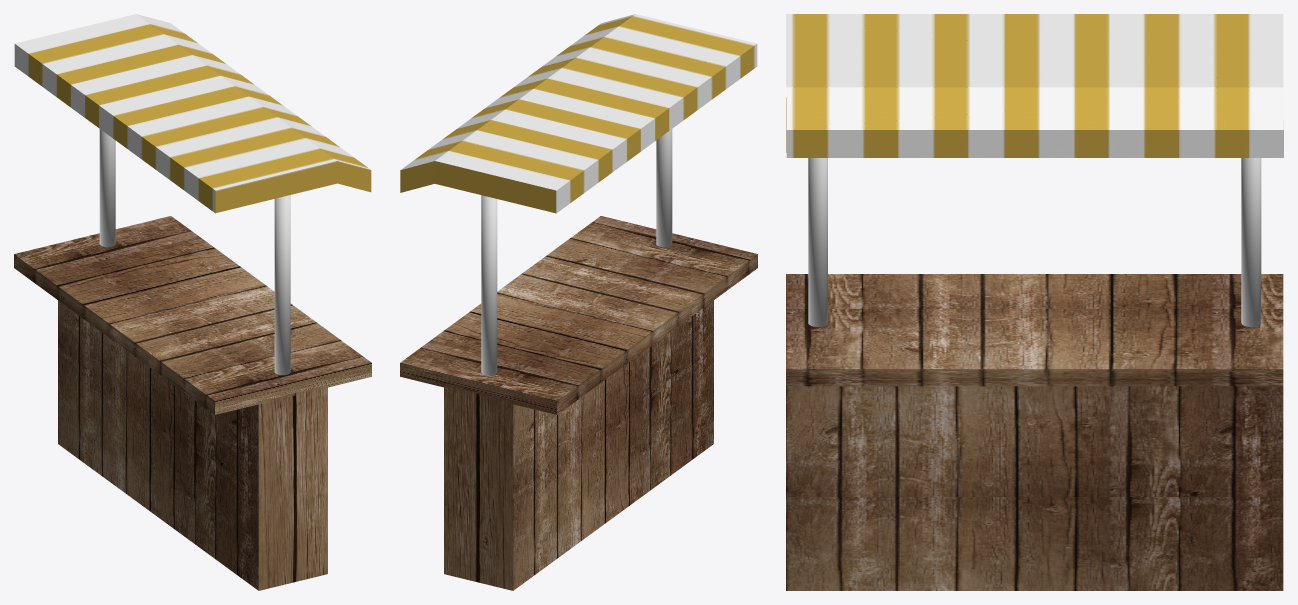
Rendered from piac03_kesz.fbx.
3 views of the same model, side by side, from view 1: azimuth 30°, elevation 25°; view 2: azimuth 150°, elevation 25°; view 3: azimuth 270°, elevation 25° (orthographic). The views are drawn at different scales.
Parts seen in each view (by area): view 1: alap; view 2: alap; view 3: alap.
Boxes of the visible parts, <box> form: alap: <box>14,14,371,590</box>; alap: <box>400,14,757,590</box>; alap: <box>786,14,1283,590</box>.
Bounding box in the file's own units: 90.26 × 226 × 200.
4 materials, 3 textured.
